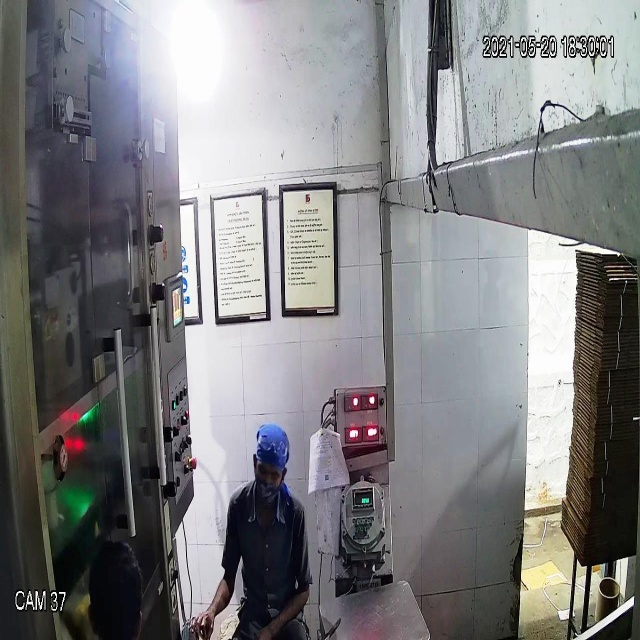Sin_gafas: (252, 452, 289, 487)
